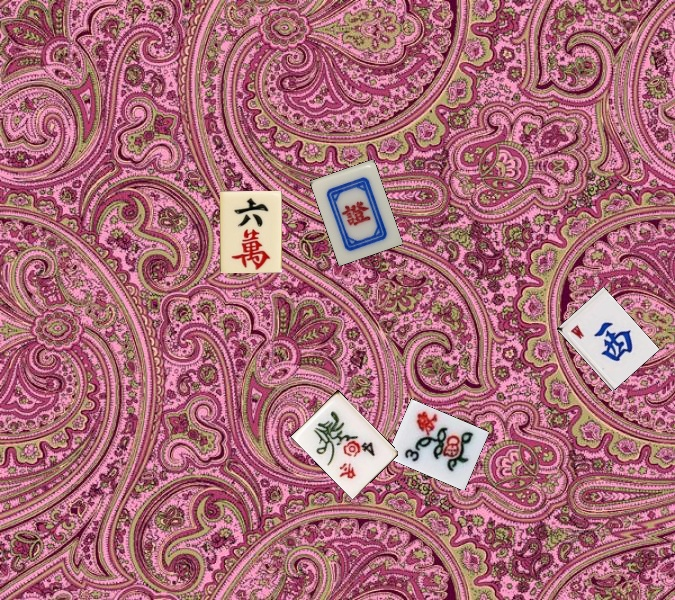bonus-autumn: (386, 398, 489, 490)
bonus-winter: (290, 390, 398, 499)
characters-6: (220, 191, 282, 273)
honors-west: (557, 287, 659, 391)
honors-white: (310, 159, 403, 266)
